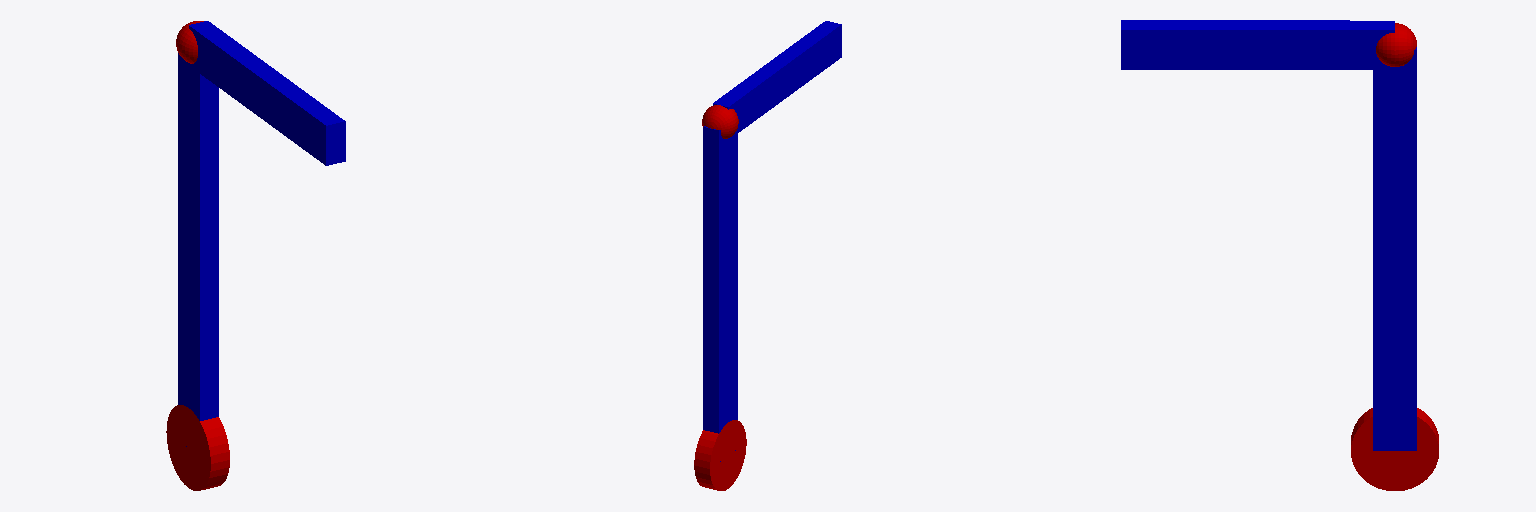
URDF robot description (TwoLinkStruct6233763001):
<?xml version="1.0"?>
<robot  name="TwoLinkStruct6233763001" >
 <material  name="blue" >
  <color  rgba="0 0 0.8 1.0" />
 </material>
 <material  name="red" >
  <color  rgba="0.8 0 0 1.0" />
 </material>
 <link  name="base_link" >
  <visual >
   <origin  rpy="0 1.5707 0"  xyz="0 0 0" />
   <material  name="red" />
   <geometry >
    <cylinder  length="0.05"  radius="0.1" />
   </geometry>
  </visual>
 </link>
 <joint  type="revolute"  name="joint1" >
  <parent  link="base_link" />
  <child  link="link1" />
  <origin  xyz="0 0 0"  rpy="0 0 0" />
  <axis  xyz="1 0 0" />
 </joint>
 <link  name="link1" >
  <inertial >
   <origin  rpy="0 0 0"  xyz="0 0 0.5" />
   <mass  value="4.023891448974609" />
   <inertia  ixy="0.0"  iyy="0.0016766214370727542"  izz="0.33616259813308713"  ixz="0.0"  ixx="0.33616259813308713"  iyz="0.0" />
  </inertial>
  <visual >
   <origin  rpy="0 0 0"  xyz="0 0 0.5" />
   <material  name="blue" />
   <geometry >
    <box  size="0.05 0.1 1.0" />
   </geometry>
  </visual>
 </link>
 <joint  type="fixed"  name="joint-joint-1" >
  <parent  link="link1" />
  <child  link="joint-link-1" />
  <origin  xyz="0 0 1.0"  rpy="1.5707 0 0" />
  <axis  xyz="1 0 0" />
 </joint>
 <link  name="joint-link-1" >
  <inertial >
   <origin  rpy="0 0 0"  xyz="0 0 0" />
   <mass  value="0.001" />
   <inertia  ixy="0"  iyy="0"  izz="0"  ixz="0"  ixx="0"  iyz="0" />
  </inertial>
  <visual >
   <origin  rpy="0 0 0"  xyz="0 0 0" />
   <material  name="red" />
   <geometry >
    <sphere  radius="0.05" />
   </geometry>
  </visual>
 </link>
 <joint  type="revolute"  name="joint2" >
  <parent  link="link1" />
  <child  link="link2" />
  <origin  xyz="0 0 1.0"  rpy="1.5707 0 0" />
  <axis  xyz="1 0 0" />
 </joint>
 <link  name="link2" >
  <inertial >
   <origin  rpy="0 0 0"  xyz="0 0 0.3097825737448786" />
   <mass  value="1.885271295057729" />
   <inertia  ixy="0.0"  iyy="0.0016766214370727542"  izz="0.12955621761532957"  ixz="0.0"  ixx="0.12955621761532957"  iyz="0.0" />
  </inertial>
  <visual >
   <origin  rpy="0 0 0"  xyz="0 0 0.3097825737448786" />
   <material  name="blue" />
   <geometry >
    <box  size="0.05 0.1 0.6195651474897572" />
   </geometry>
  </visual>
 </link>
 <joint  type="fixed"  name="eef_joint" >
  <parent  link="link2" />
  <child  link="eef" />
  <origin  xyz="0 0 0.6195651474897572"  rpy="0 0 0" />
 </joint>
 <link  name="eef" >
  <inertial >
   <origin  rpy="0 0 0"  xyz="0 0 0" />
   <mass  value="1" />
   <inertia  ixy="0"  iyy="0"  izz="0"  ixz="0"  ixx="0"  iyz="0" />
  </inertial>
 </link>
 <transmission  name="motor1" >
  <type  xmltext="SimpleTransmission" >
   SimpleTransmission
  </type>
  <actuator  name="motor1" >
   <mechanicalreduction  xmltext="1" >
    1
   </mechanicalreduction>
  </actuator>
  <joint  name="joint1" />
 </transmission>
 <transmission  name="motor2" >
  <type  xmltext="SimpleTransmission" >
   SimpleTransmission
  </type>
  <actuator  name="motor2" >
   <mechanicalreduction  xmltext="1" >
    1
   </mechanicalreduction>
  </actuator>
  <joint  name="joint2" />
 </transmission>
</robot>

<!-- {'carti': array([-0.1 ,  0.14,  0.85]), 'cartd': array([-0.1 ,  0.32,  1.29]), 'tau_mu': 0.89469145009319, 'b0': 1.0, 'Km': 4.298257931381754, 'k_velocity': 3.0940406635566795, 'tau_max_m': 5.0, 'omega_max_m': 5324.628858568944, 'gear_ratio': 3.233948266116452, 'Kp': 20.043651269558843, 'Kd': 0.0, 'm_m': 0.001, 'l1': 1.0, 'l2': 0.6195651474897572, 'k1': 30900.0, 'k2': 110625787.75362699, 'k3': 379000000.0}-->

--- Render facts (derived) ---
3 views of the same robot in one strip: view 1: azimuth 30°, elevation 25°; view 2: azimuth 150°, elevation 25°; view 3: azimuth 270°, elevation 25° (orthographic).
Robot: TwoLinkStruct6233763001 — 5 links, 4 joints (2 revolute, 2 fixed); root link base_link; default pose: every joint at zero.
Links seen in each view (by area): view 1: link1, link2, base_link, joint-link-1; view 2: link1, link2, base_link, joint-link-1; view 3: link1, link2, base_link, joint-link-1.
Link boxes in pixels (x1=…): link1: x1=178, y1=53, x2=218, y2=446; link2: x1=189, y1=21, x2=345, y2=165; base_link: x1=166, y1=405, x2=229, y2=490; joint-link-1: x1=176, y1=21, x2=203, y2=63; link1: x1=703, y1=126, x2=737, y2=461; link2: x1=713, y1=21, x2=841, y2=132; base_link: x1=694, y1=420, x2=746, y2=490; joint-link-1: x1=702, y1=105, x2=738, y2=138; link1: x1=1373, y1=47, x2=1416, y2=450; link2: x1=1121, y1=20, x2=1394, y2=69; base_link: x1=1351, y1=408, x2=1438, y2=490; joint-link-1: x1=1376, y1=23, x2=1416, y2=66.
Bounding box of the posed robot: 0.1 × 0.7196 × 1.15 m (x, y, z).
Geometry: primitives only (box / cylinder / sphere), no mesh files.
